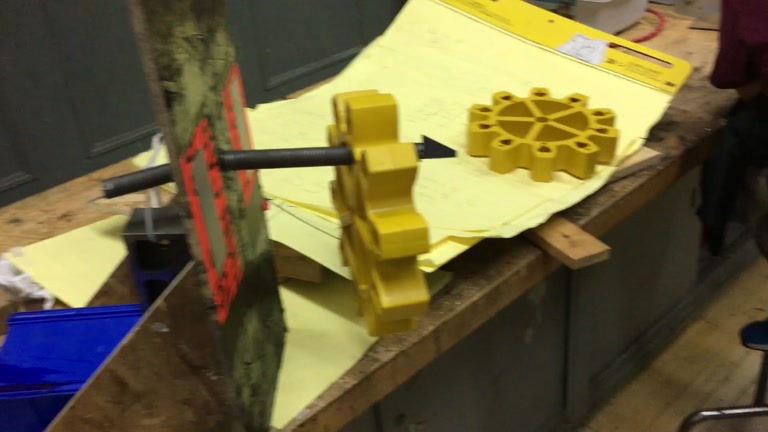gear: (326, 86, 430, 338), (465, 85, 621, 183)
